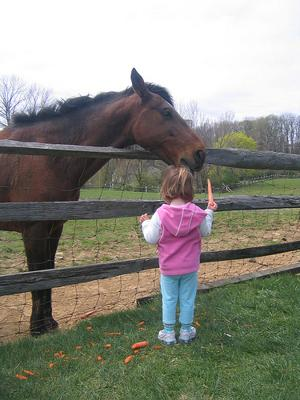person: (138, 165, 217, 345)
